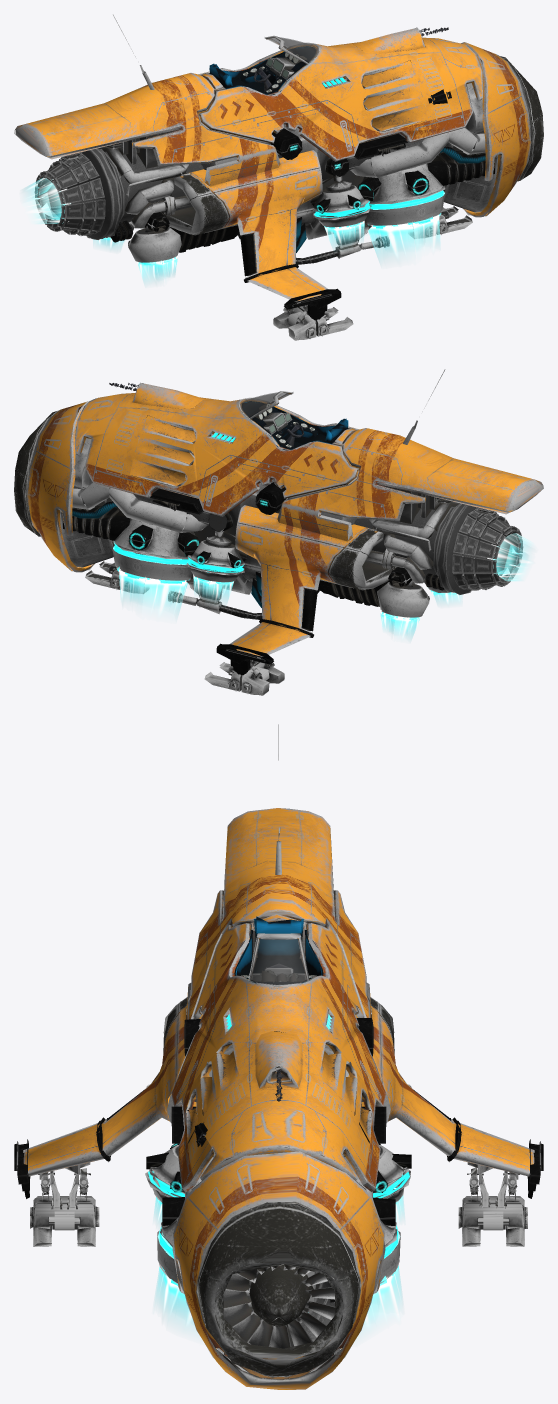
The model's file is objeto-1.glb.
The picture shows the model from 3 angles, top to bottom: view 1: azimuth 30°, elevation 25°; view 2: azimuth 150°, elevation 25°; view 3: azimuth 270°, elevation 25°; orthographic projection. The views are drawn at different scales.
Visible parts, largest first — view 1: back_low.001, front2_low, vray3, back_low; view 2: back_low.001, front2_low, vray3, back_low; view 3: back_low.001, front2_low, vray3, back_low.
Part boxes in pixels (x1=…): back_low.001: x1=14, y1=27, x2=489, y2=303; front2_low: x1=107, y1=14, x2=543, y2=340; vray3: x1=22, y1=177, x2=440, y2=284; back_low: x1=270, y1=37, x2=317, y2=62; back_low.001: x1=68, y1=382, x2=543, y2=658; front2_low: x1=14, y1=369, x2=451, y2=695; vray3: x1=119, y1=533, x2=532, y2=640; back_low: x1=240, y1=392, x2=287, y2=417; back_low.001: x1=23, y1=808, x2=534, y2=1198; front2_low: x1=14, y1=724, x2=543, y2=1389; vray3: x1=154, y1=1187, x2=404, y2=1332; back_low: x1=250, y1=938, x2=307, y2=984.
Size of the model in its own units: 2.02 by 1.15 by 1.27.
4 materials, 4 textured.
